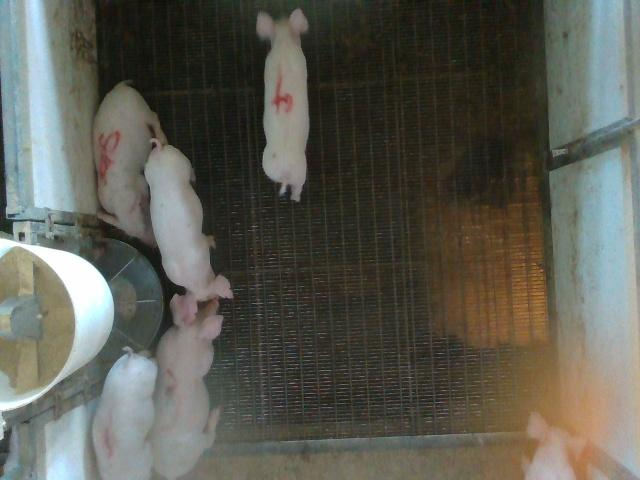pig-1: (92, 346, 158, 479)
pig-3: (150, 295, 222, 479)
pig-4: (256, 9, 309, 201)
pig-5: (94, 81, 166, 246)
